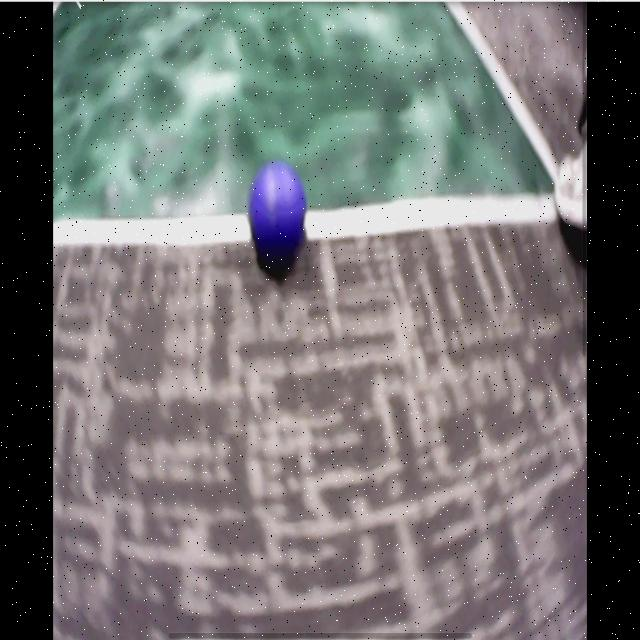ball: (248, 164, 308, 252)
